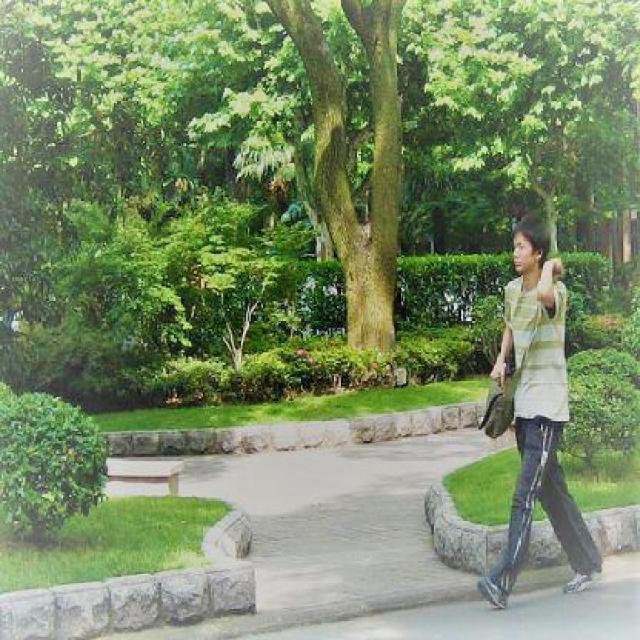Person: (468, 226, 608, 611)
